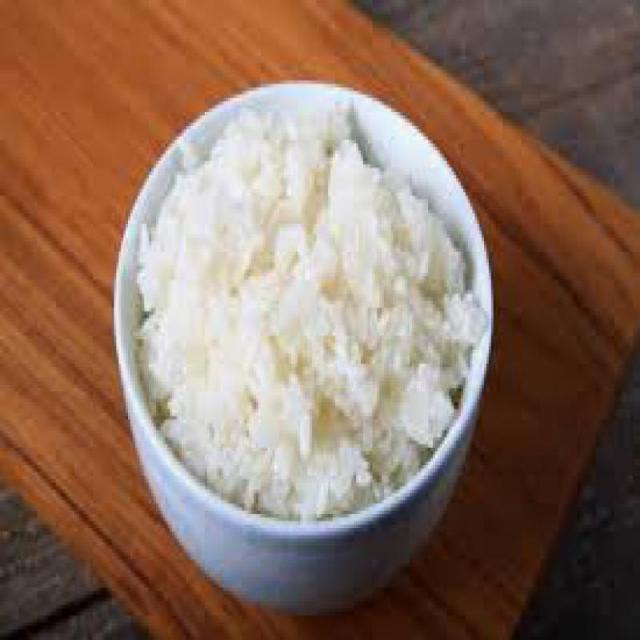rice: (140, 97, 467, 518)
